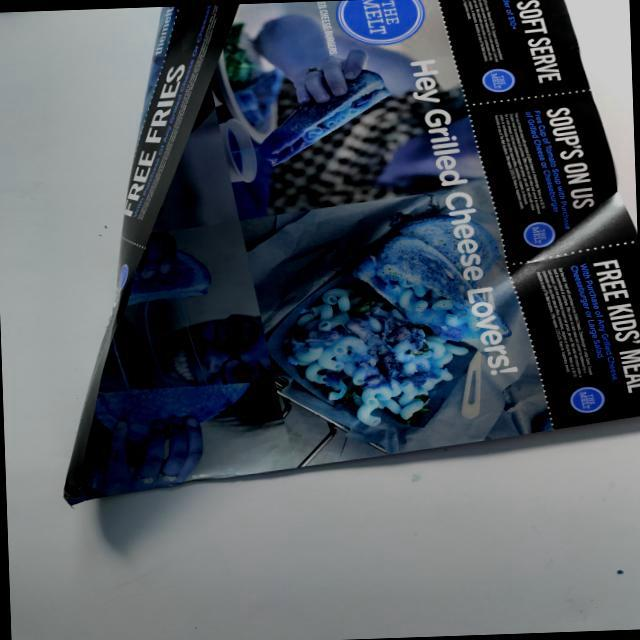paper: (40, 0, 640, 505)
